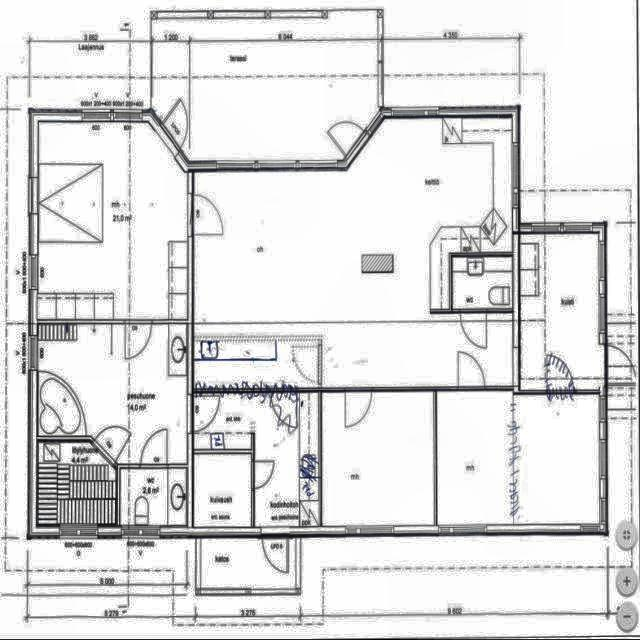room: (37, 122, 187, 319), (437, 390, 600, 525), (38, 324, 188, 464), (194, 392, 319, 527), (322, 391, 434, 526), (519, 234, 599, 391), (37, 442, 116, 525), (201, 538, 296, 589), (193, 454, 252, 528), (120, 468, 187, 526), (452, 257, 513, 309)
